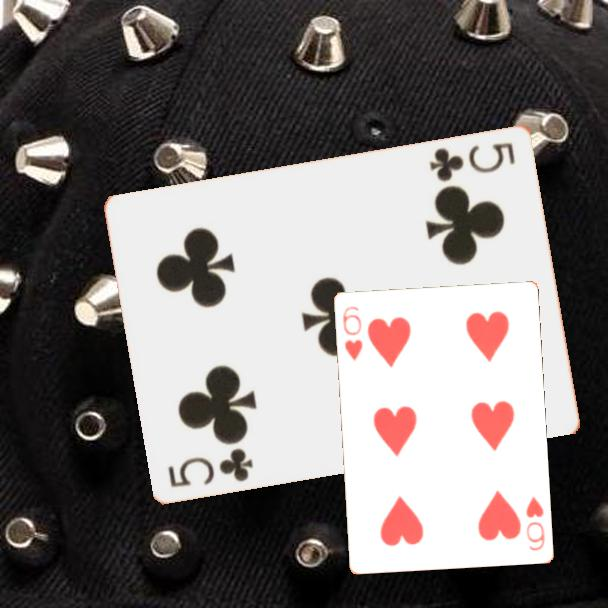c05: (426, 138, 519, 184), (164, 444, 257, 490)
h06: (339, 302, 365, 364), (522, 493, 547, 553)
